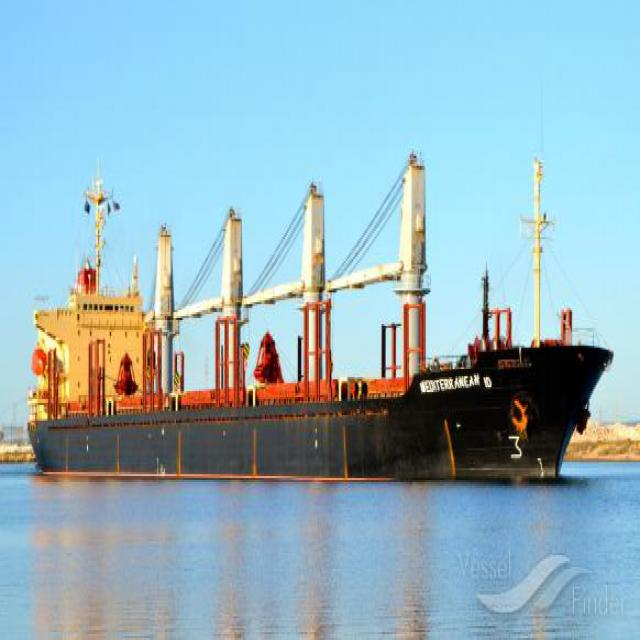OCR: (414, 369, 482, 401)
